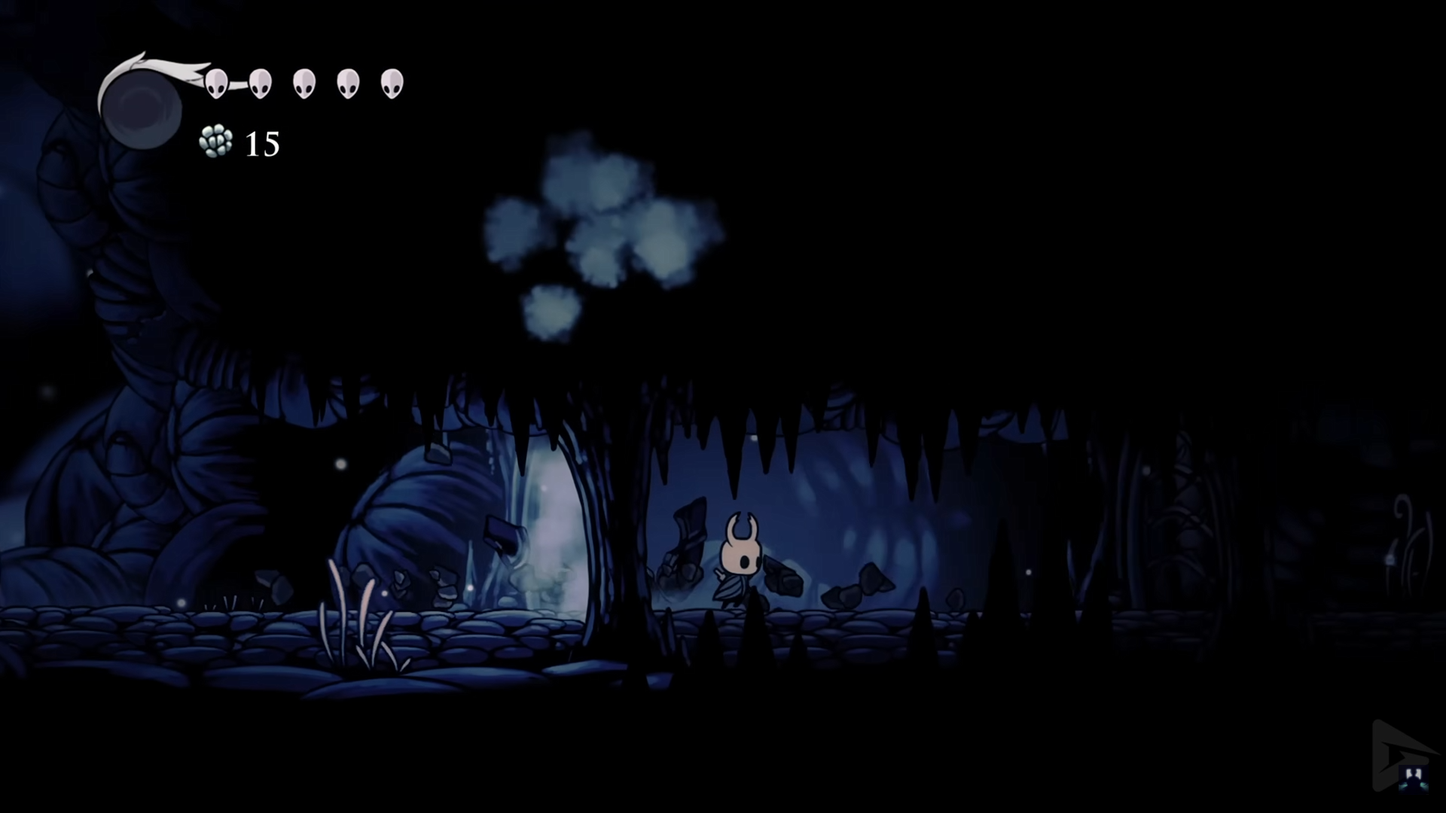HK: (709, 511, 772, 611)
